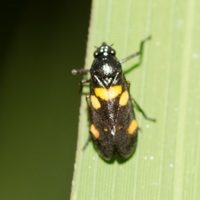insect: (72, 37, 149, 161)
